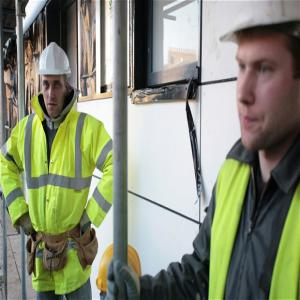white: (234, 3, 299, 156), (38, 41, 72, 118)
